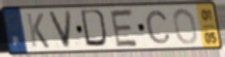C: (144, 9, 173, 45)
D: (79, 8, 111, 50)
E: (109, 8, 140, 49)
K: (25, 12, 52, 50)
O: (172, 7, 200, 46)
V: (46, 9, 74, 50)
